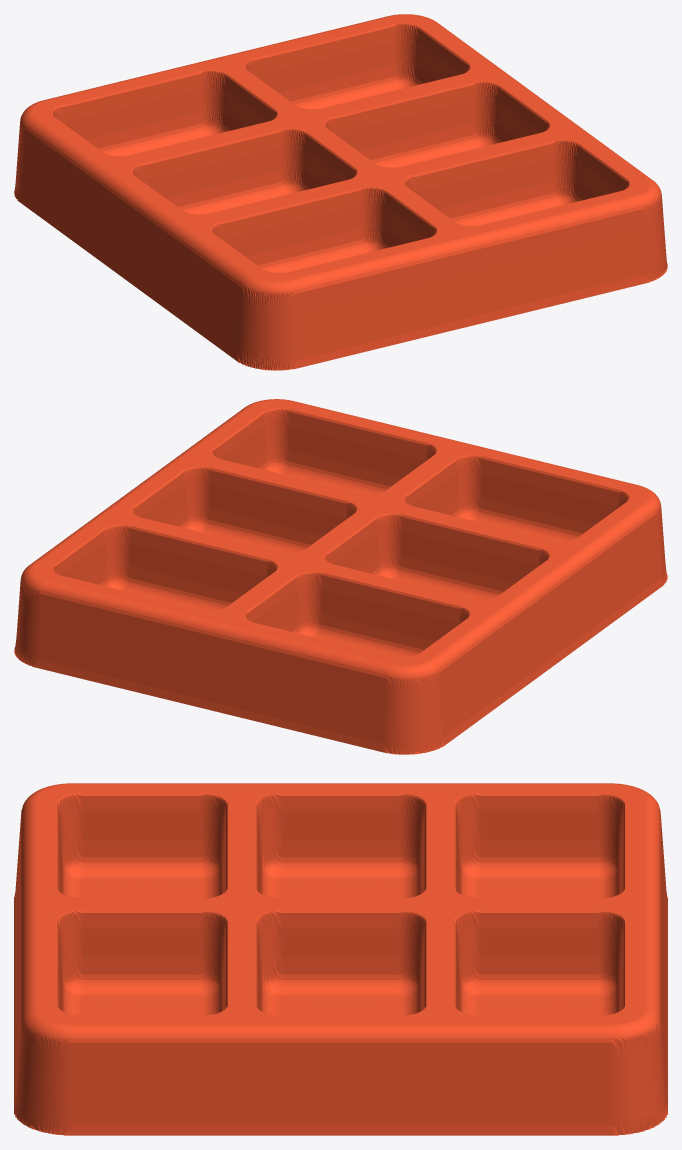
The model's file is mold.glb.
3 renders of one model, top to bottom at view 1: azimuth 30°, elevation 25°; view 2: azimuth 150°, elevation 25°; view 3: azimuth 270°, elevation 25°, orthographic. The views are drawn at different scales.
Visible parts, largest first — view 1: geometry_0; view 2: geometry_0; view 3: geometry_0.
Part boxes in pixels (box(x1,y1,x2,y2)): geometry_0: box(14, 14, 667, 370); geometry_0: box(14, 399, 667, 754); geometry_0: box(14, 783, 667, 1135).
Bounding box in the file's own units: 0.0955 × 0.0175 × 0.1019.
